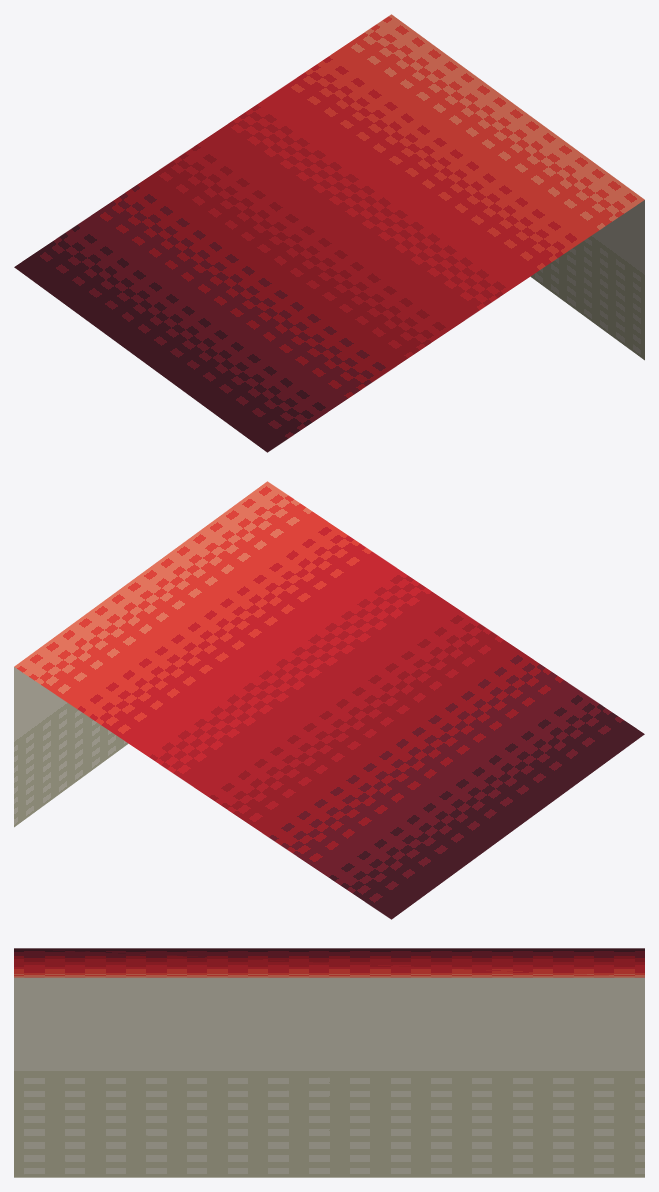
Rendered from welle_b.glb.
3 renders of one model, top to bottom at view 1: azimuth 30°, elevation 25°; view 2: azimuth 150°, elevation 25°; view 3: azimuth 270°, elevation 25°, orthographic. The views are drawn at different scales.
Visible parts, largest first — view 1: band; view 2: band; view 3: band.
Part boxes in pixels (box(x1,y1,x2,y2)): band: box(14, 14, 644, 452); band: box(14, 481, 644, 919); band: box(14, 948, 644, 1177).
Bounding box in the file's own units: 0.86 × 0.35 × 1.
Materials: 1 (1 with a texture image).
